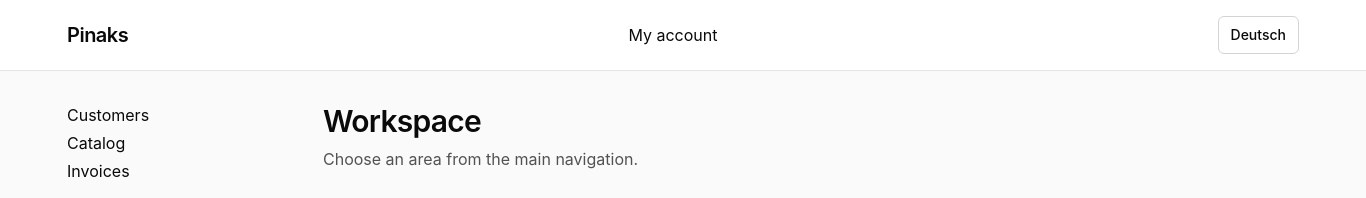
Test: application shell › switches language, updates the document, and persists the preference
The width and height of the screenshot is (1366, 198).
Check: the navigation bar named "Main navigation" is shown, box [67, 105, 149, 181]
Click the button "Deutsch" at (1258, 35), box [1218, 16, 1299, 54]
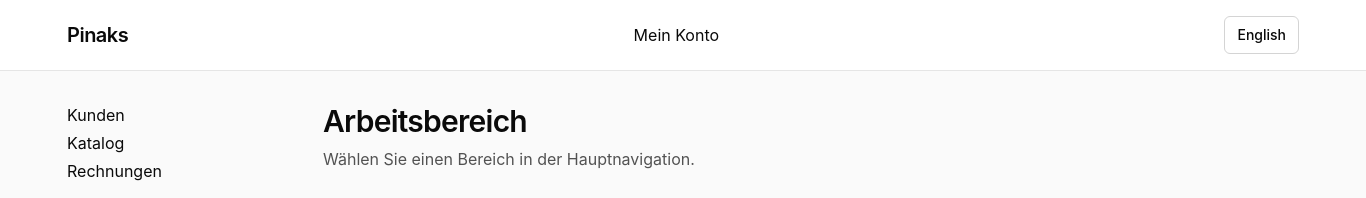
Check: the navigation bar named "Hauptnavigation" shows "Kunden", box [67, 105, 125, 125]
